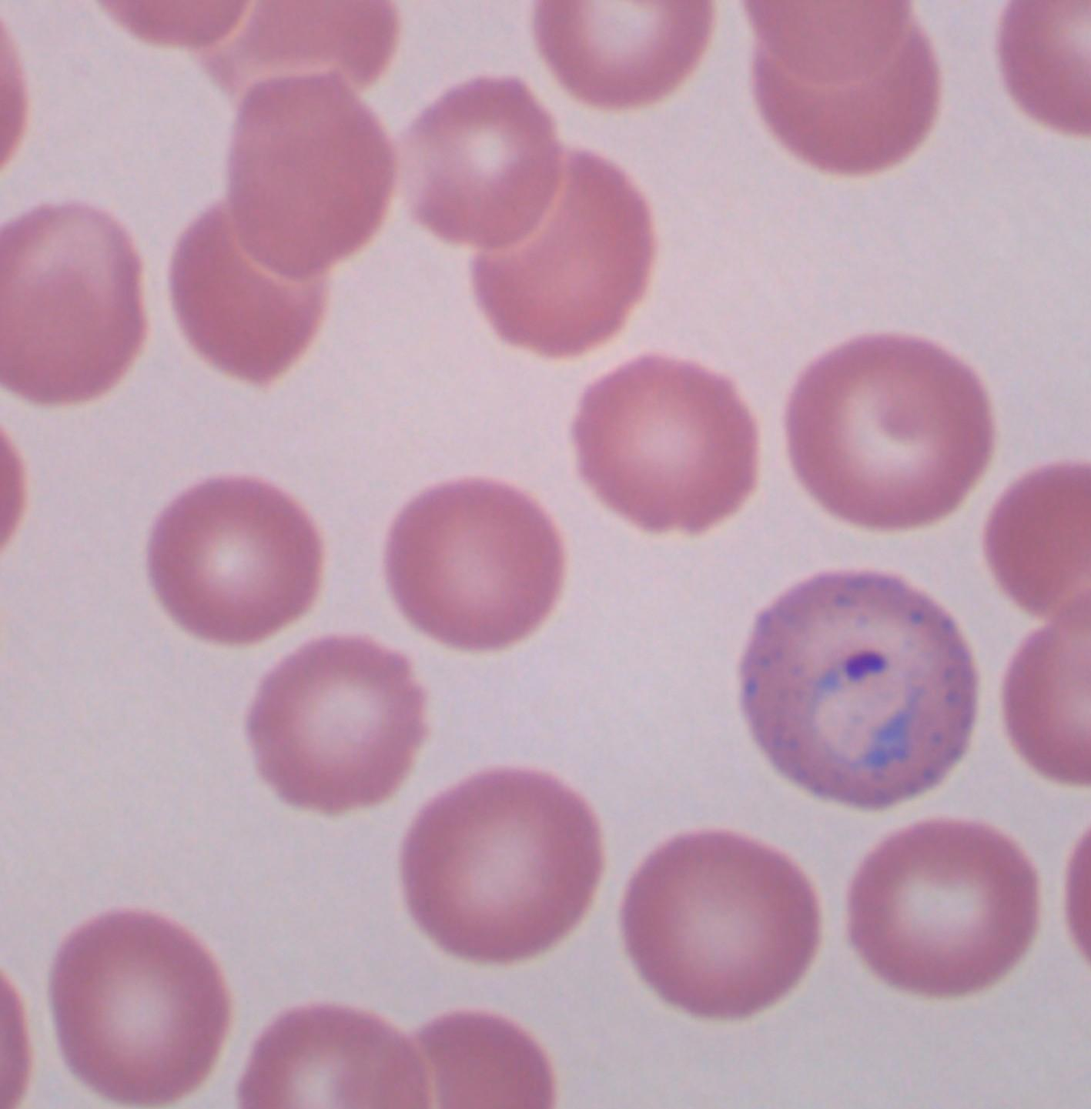Infected: (737, 570, 978, 813)
Uninfected: (789, 331, 992, 525), (396, 770, 598, 961), (620, 830, 824, 1017), (474, 147, 653, 353), (225, 62, 392, 273), (48, 909, 231, 1101), (843, 822, 1038, 998), (574, 356, 761, 539), (250, 631, 430, 810), (391, 479, 572, 650), (146, 474, 322, 647), (169, 197, 333, 382), (0, 200, 141, 402), (755, 23, 943, 173), (410, 75, 564, 250), (196, 0, 396, 107), (248, 1001, 435, 1109), (535, 0, 715, 110), (987, 460, 1091, 627), (735, 0, 912, 84)
